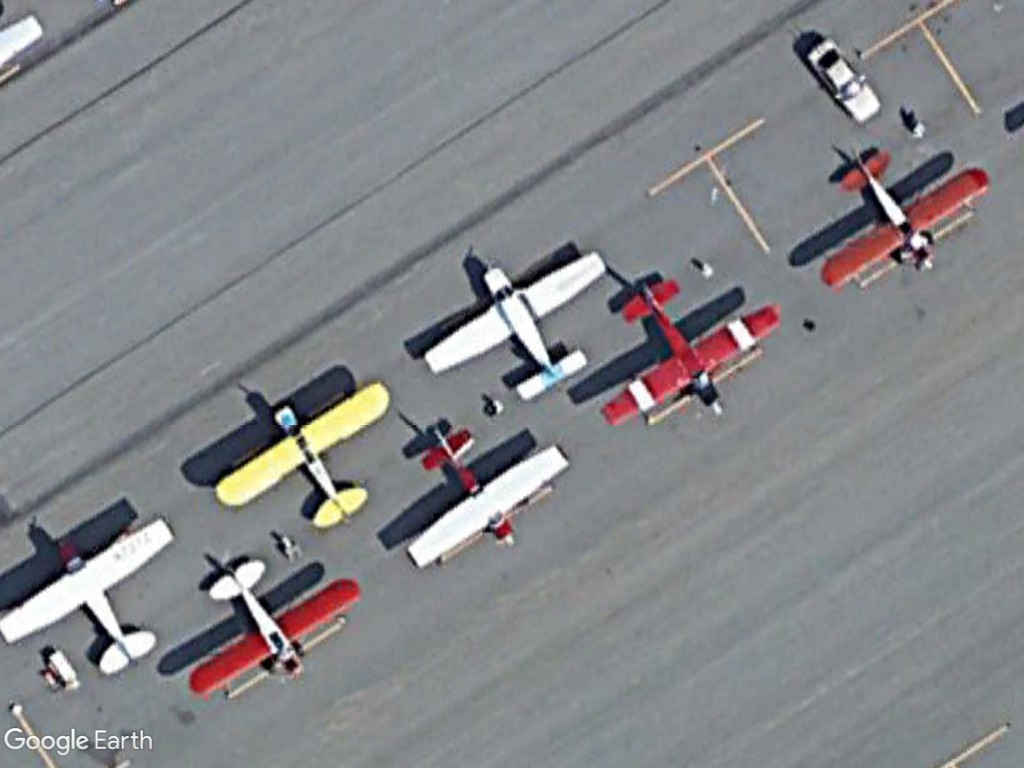car: (801, 34, 885, 127)
trainer: (420, 243, 608, 409), (0, 509, 174, 685), (212, 372, 394, 537), (597, 276, 780, 431), (182, 552, 363, 705), (816, 141, 991, 296), (402, 422, 573, 580)
